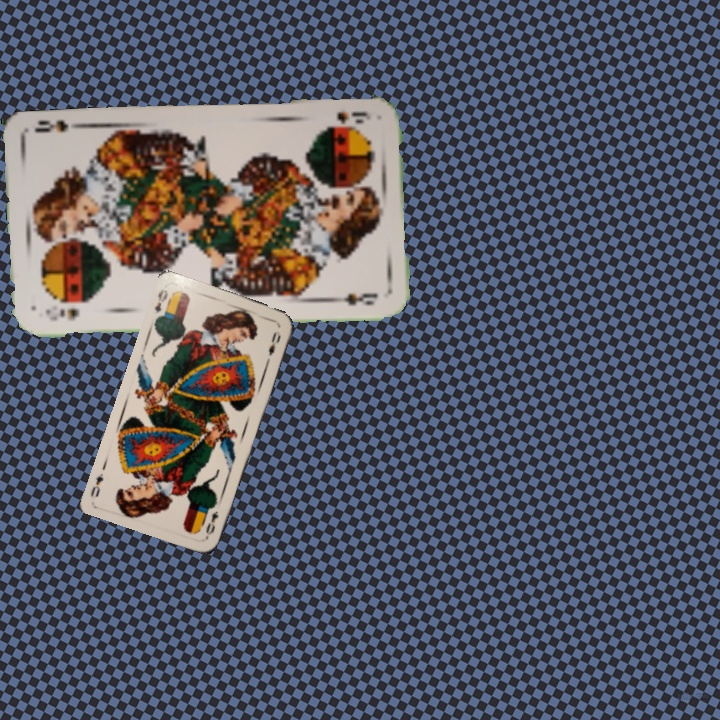EO: (150, 285, 171, 316), (202, 507, 221, 540)
SO: (322, 107, 372, 129), (41, 304, 82, 324)
